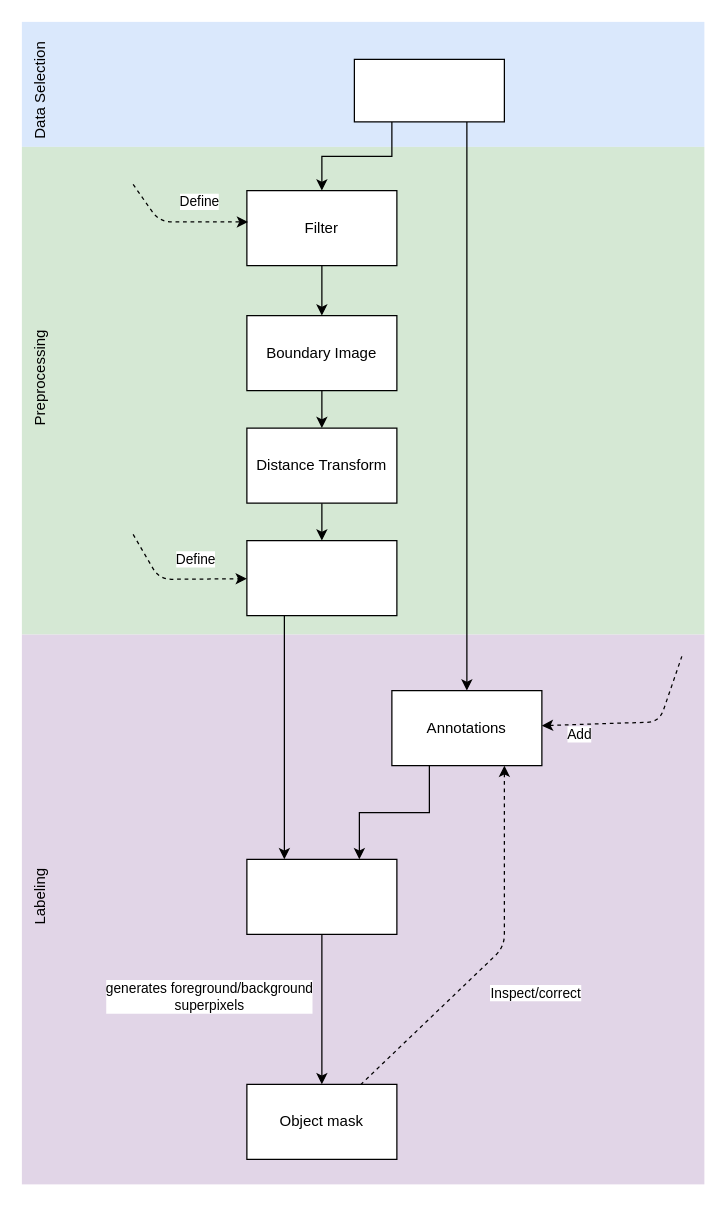
The diagram is 725 pixels wide and 1205 high, and some of its shapes have lost their labels. Here are the shapes that lost their labels. From the top down, the centre of each, then its label:
(428,90): Image/raw data
(321,577): Superpixel Oversegmentation
(321,896): seeded watershed
